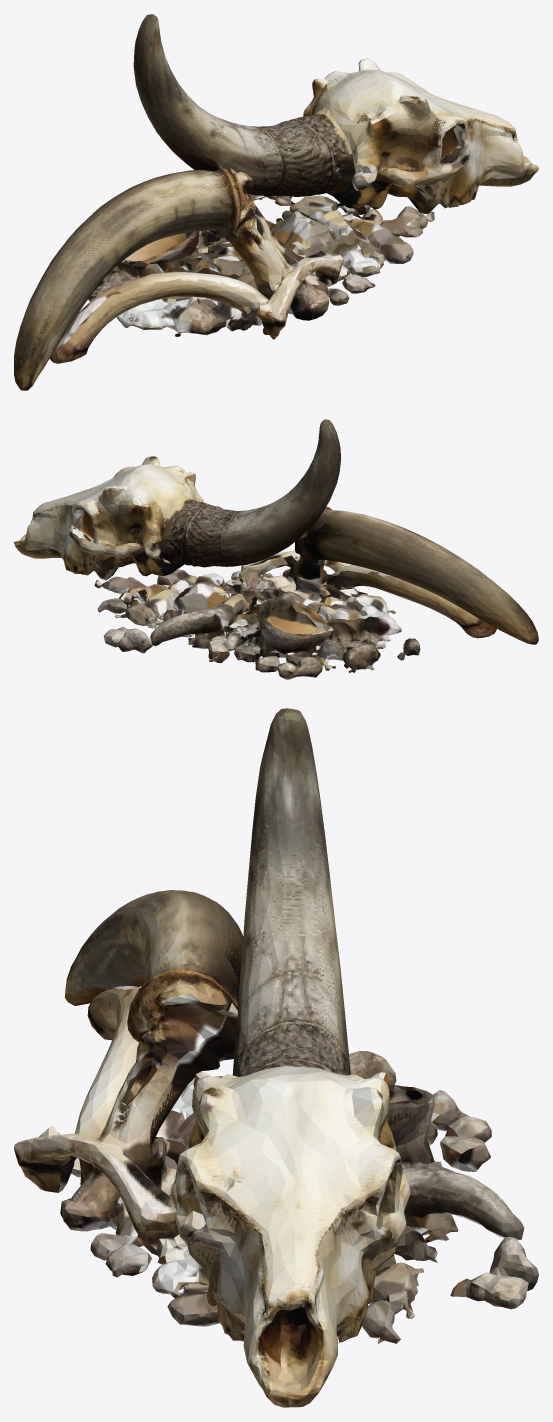
Rendered from traveler_env_coast_shadowlands_oni_bones_00001_.glb.
3 views of the same model, one above another, from view 1: azimuth 30°, elevation 25°; view 2: azimuth 150°, elevation 25°; view 3: azimuth 270°, elevation 25° (orthographic). The views are drawn at different scales.
Visible parts, largest first — view 1: temp_mesh.ply; view 2: temp_mesh.ply; view 3: temp_mesh.ply.
Part boxes in pixels (x1,y1,x2,y2): temp_mesh.ply: [14, 14, 538, 390]; temp_mesh.ply: [14, 419, 538, 679]; temp_mesh.ply: [14, 708, 538, 1407].
Bounding box in the file's own units: 1.97 × 0.9095 × 0.9645.
Materials: 1 (1 with a texture image).
